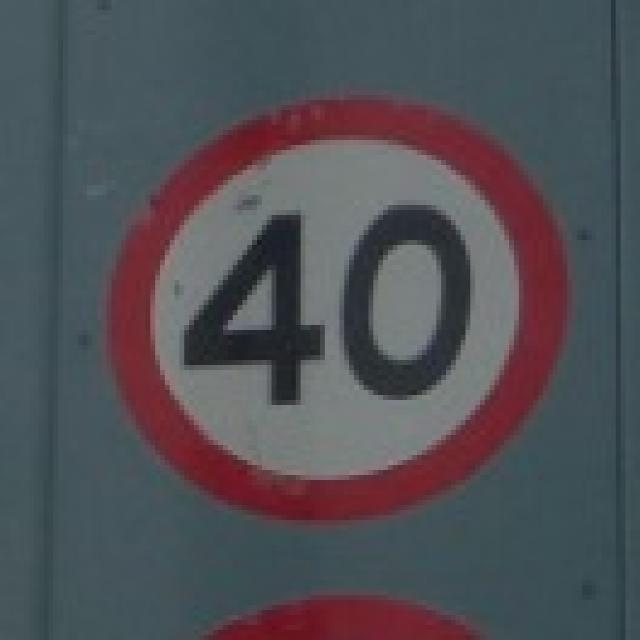Speed Limit -40-: (178, 204, 480, 406)
